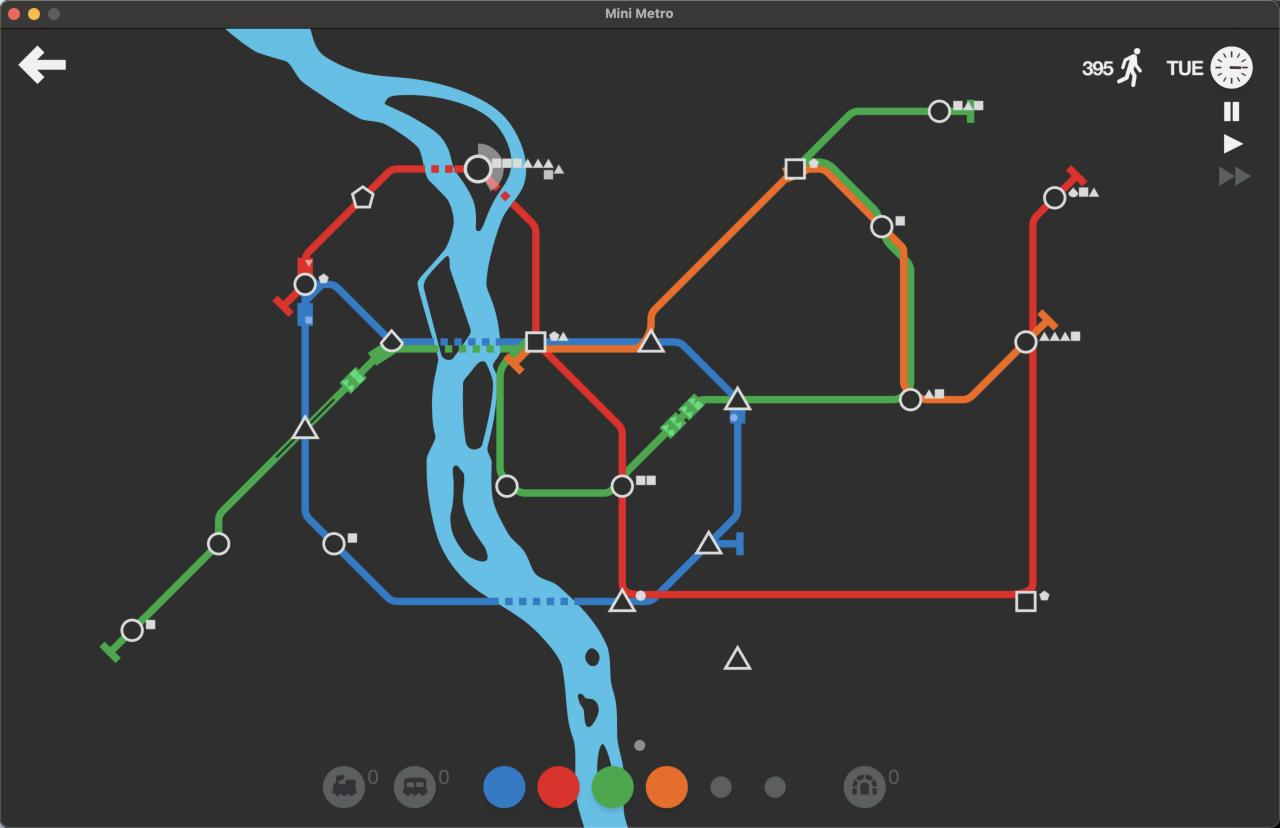CIRCLE: (463, 153, 493, 184), (120, 617, 145, 643), (1042, 185, 1067, 210), (610, 473, 635, 498), (927, 99, 952, 124), (206, 531, 231, 556), (495, 473, 519, 499), (293, 271, 317, 296), (870, 214, 894, 239), (322, 532, 347, 556), (1014, 329, 1038, 354), (899, 387, 923, 412)
PENTAGON: (351, 185, 375, 209)
SQUARE: (784, 157, 806, 181), (525, 330, 547, 353), (1015, 590, 1037, 613)
TRIANGLE: (721, 643, 754, 672), (694, 529, 724, 557), (608, 587, 638, 614), (723, 386, 752, 413), (636, 328, 666, 354), (291, 415, 319, 441)
WEDGE: (380, 328, 404, 352)
